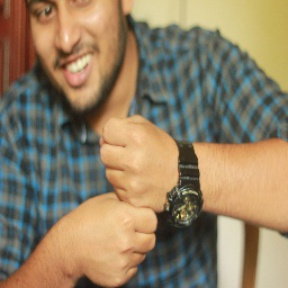G: (81, 114, 176, 288)
